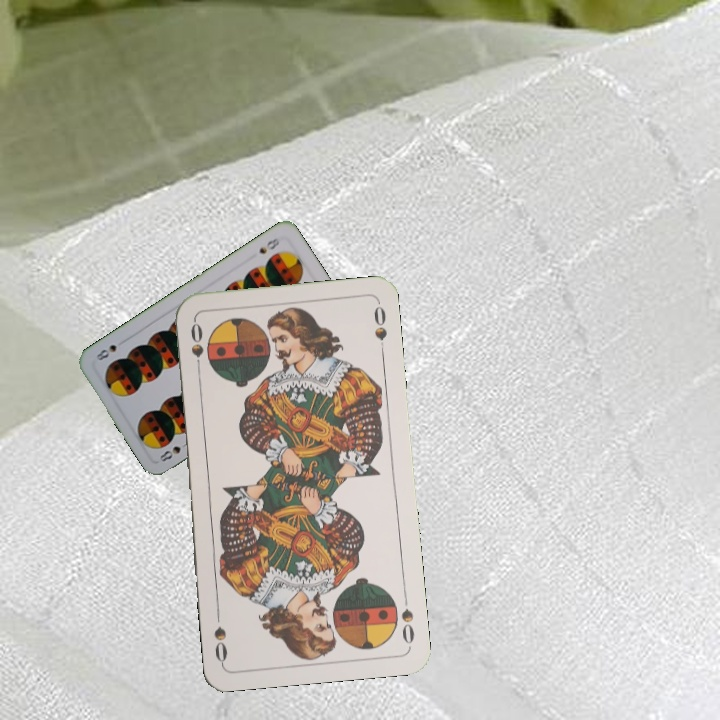S8: (255, 234, 282, 257), (155, 442, 183, 464)
SO: (186, 317, 206, 377), (397, 604, 417, 647)
